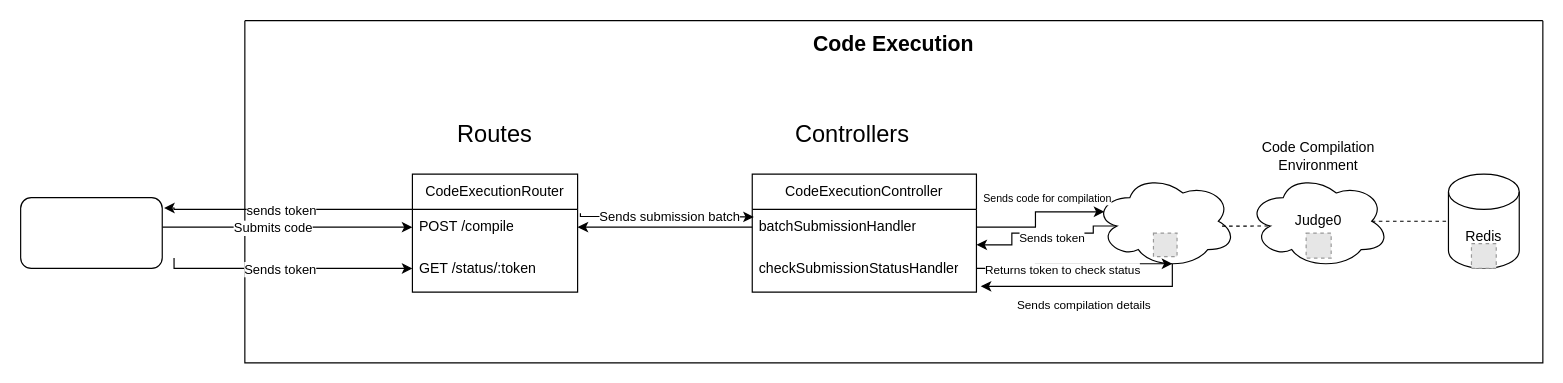
The diagram is 1563 pixels wide and 383 high, and some of its shapes have lost their labels. Grey dashed boxes stand in for pictures. The box of each missing label's shape, as (x1, y1, x2, y2) in pixels:
Frontend: (19, 196, 162, 268)
RapidAPI: (1093, 173, 1236, 268)
